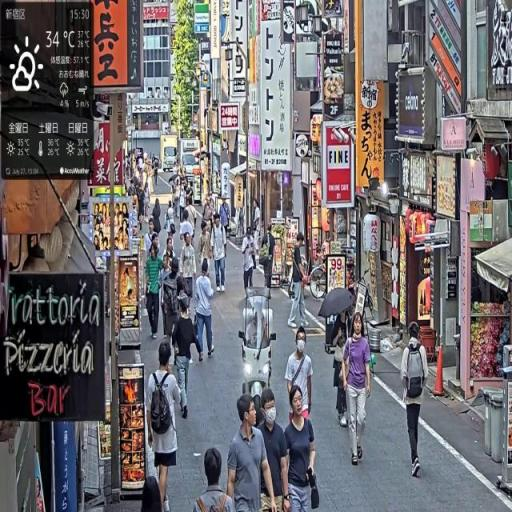person: (146, 341, 188, 512), (226, 394, 281, 512), (343, 316, 374, 469), (401, 319, 429, 486), (284, 386, 321, 512), (168, 296, 203, 421), (257, 387, 292, 512), (287, 326, 316, 423), (192, 447, 235, 512), (288, 231, 310, 337), (195, 259, 217, 362), (145, 240, 163, 341), (179, 229, 198, 317), (211, 215, 229, 293), (262, 225, 278, 296), (141, 474, 168, 512), (243, 230, 258, 294)
